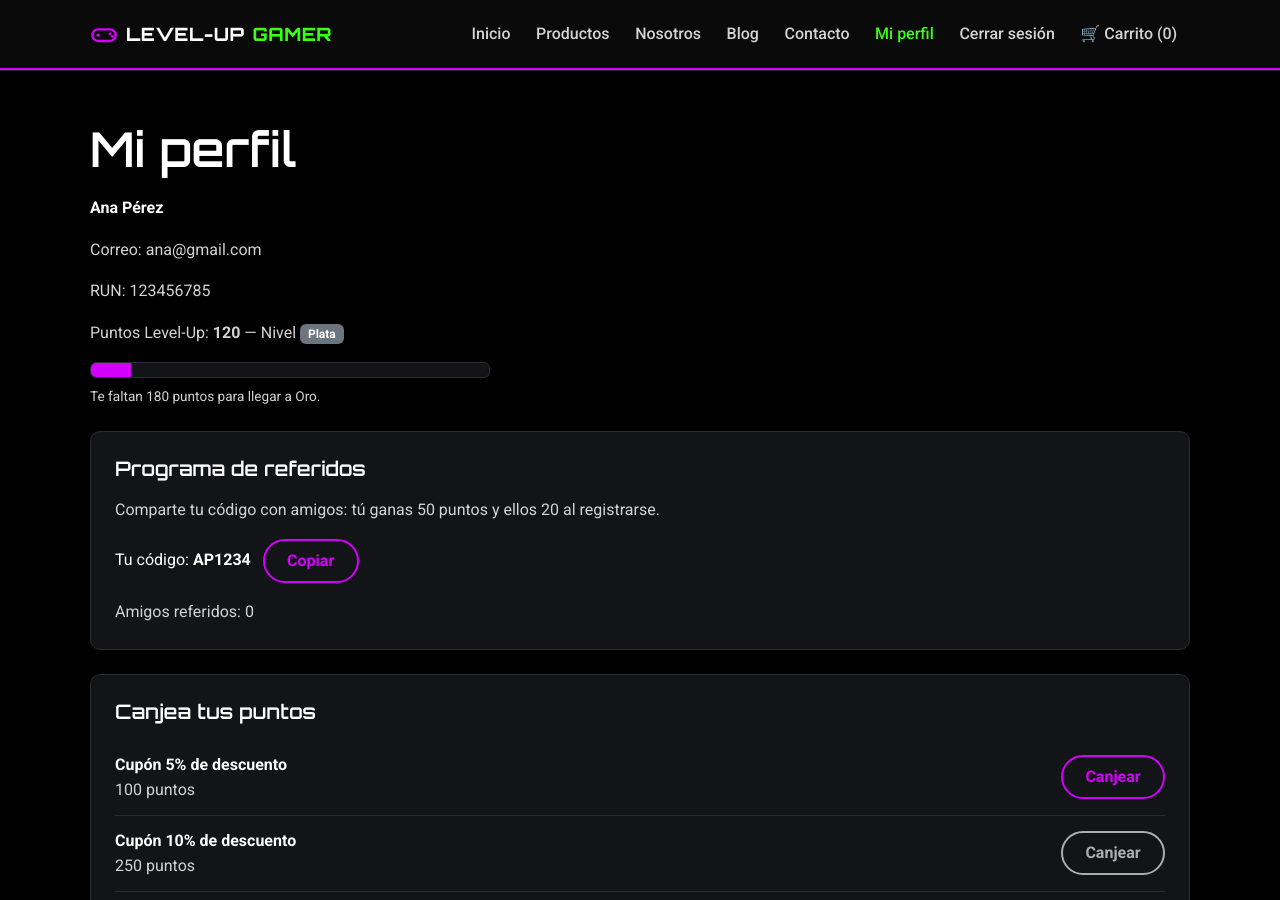
Test: <Perfil /> (perfil, fidelización y edición de datos) › canjear descuenta los puntos y deshabilita lo que ya no alcanza
Expected: the button with aria-label "Canjear Cupón 10% de descuento" is disabled, [1061,831,1165,875]
What coordinates should you click on to do the following:
click the button with aria-label "Canjear Cupón 5% de descuento"
I would click on:
 (1113, 777)
Its box is [1061,755,1165,799].
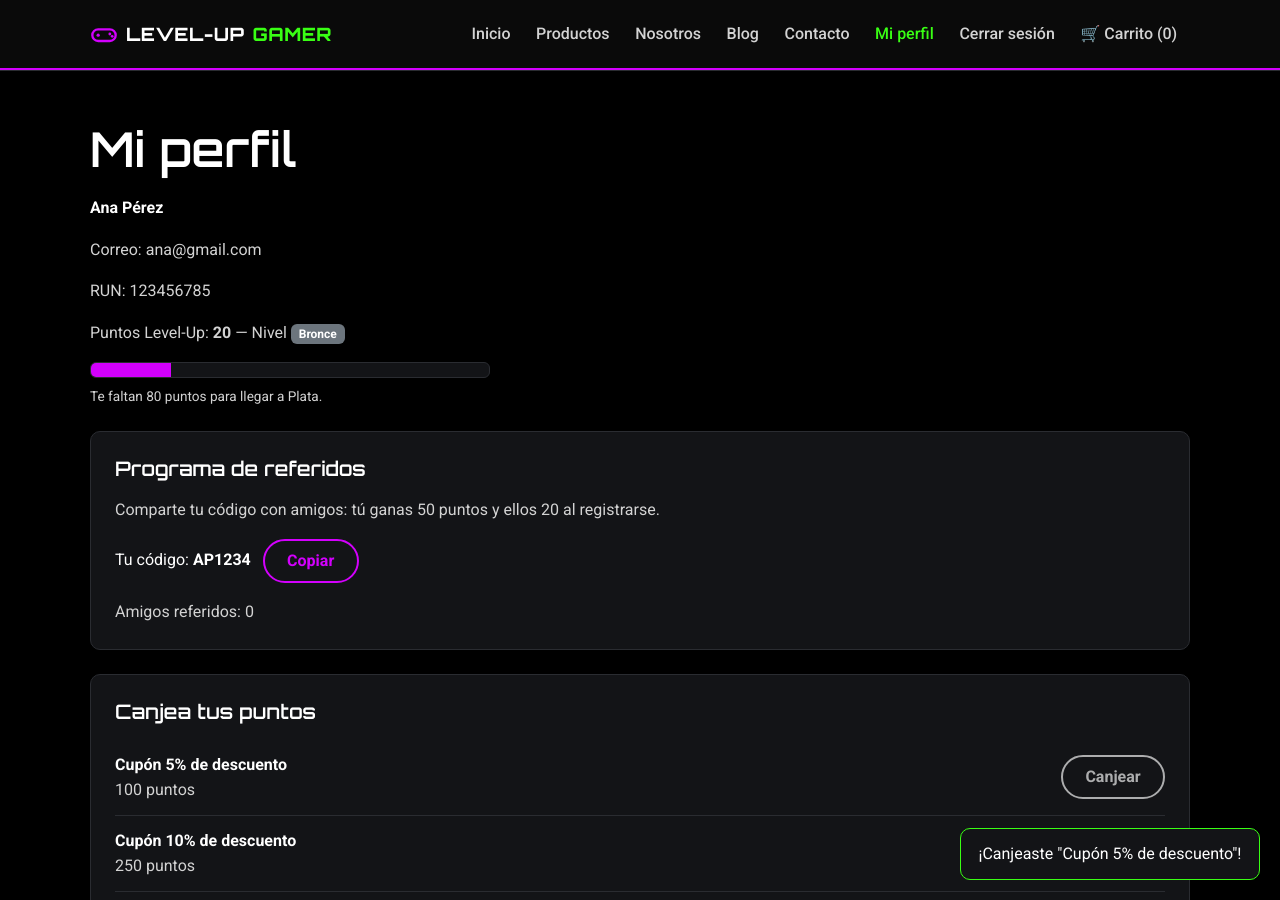
Expected: the text "¡Canjeaste \"Cupón 5% de descuento\"!" is shown, [960,828,1260,880]
Expected: the button with aria-label "Canjear Cupón 5% de descuento" is disabled, [1061,755,1165,799]
